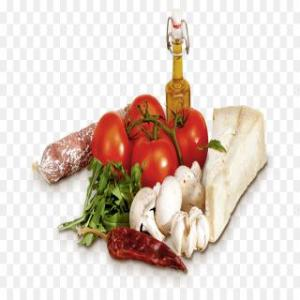garlic: (170, 207, 212, 261)
tomato: (130, 125, 180, 194), (90, 109, 134, 184), (166, 104, 210, 174), (125, 88, 167, 148)
